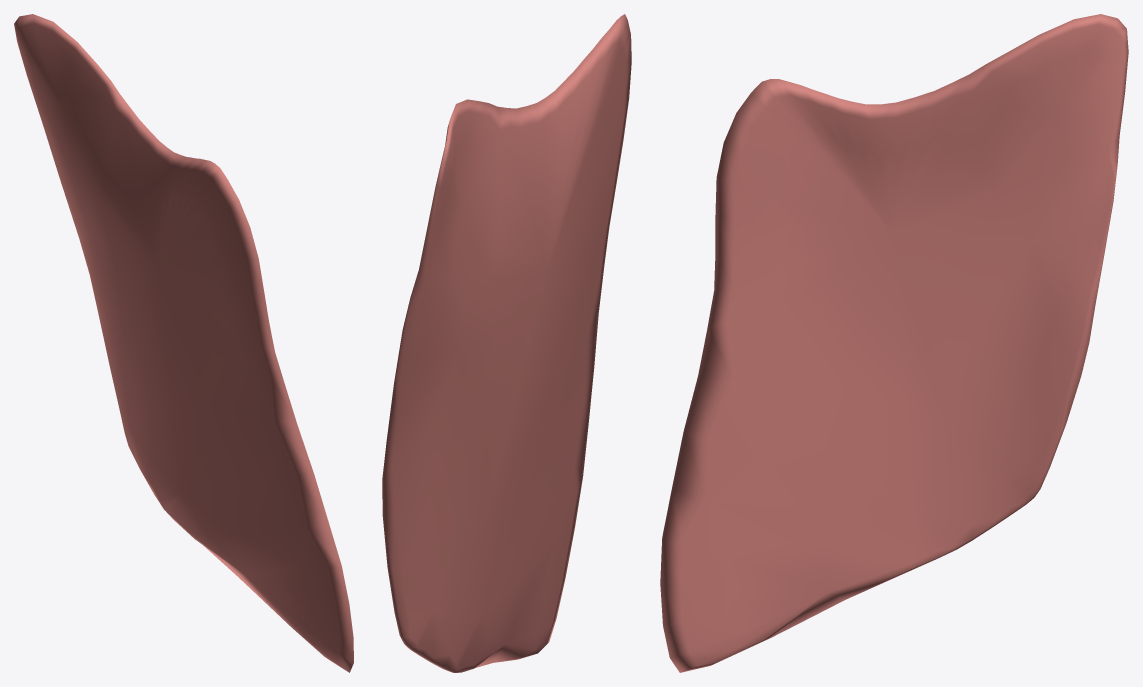
3 views of the same model, side by side, from view 1: azimuth 30°, elevation 25°; view 2: azimuth 150°, elevation 25°; view 3: azimuth 270°, elevation 25° (orthographic). The views are drawn at different scales.
Visible parts, largest first — view 1: ZA_46e82cf6da26baca; view 2: ZA_46e82cf6da26baca; view 3: ZA_46e82cf6da26baca.
Part boxes in pixels (x1=…): ZA_46e82cf6da26baca: x1=14, y1=14, x2=353, y2=672; ZA_46e82cf6da26baca: x1=382, y1=14, x2=631, y2=672; ZA_46e82cf6da26baca: x1=660, y1=14, x2=1128, y2=672.
Size of the model in its own units: 0.0122 by 0.0491 by 0.0351.
